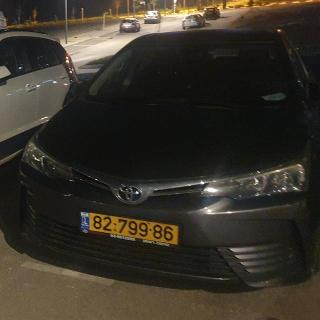LicensePlate: (87, 213, 180, 245)
